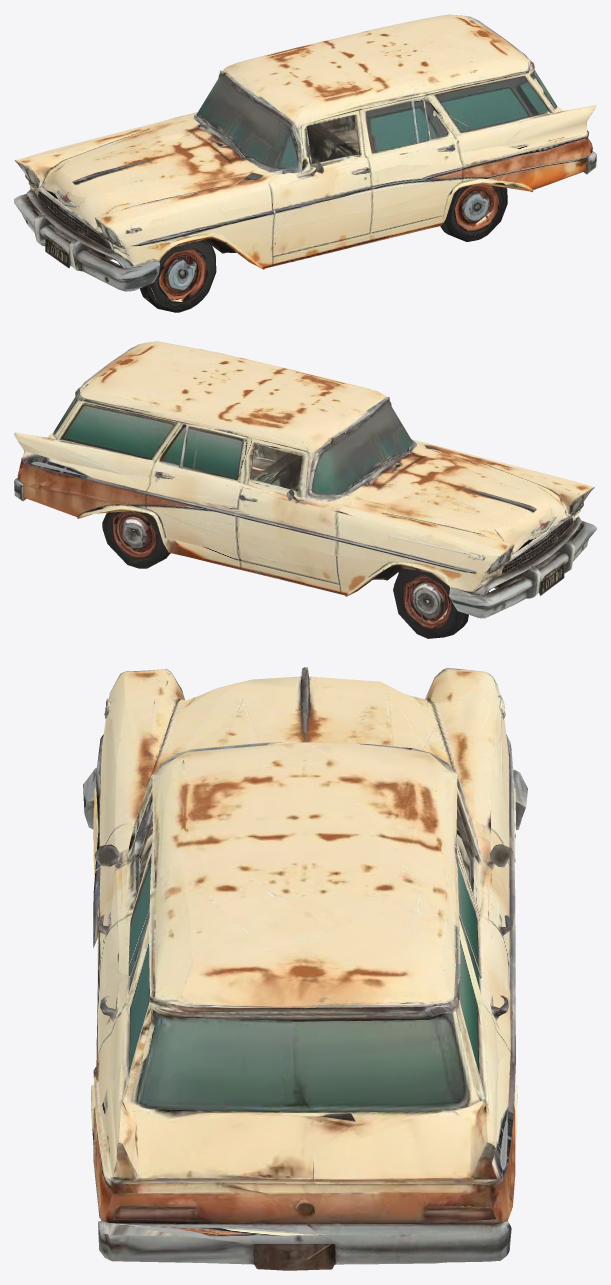
The model's file is suburb-car-lod.glb.
3 views of the same model, one above another, from view 1: azimuth 30°, elevation 25°; view 2: azimuth 150°, elevation 25°; view 3: azimuth 270°, elevation 25° (orthographic). The views are drawn at different scales.
Parts seen in each view (by area): view 1: suburb-car-Mesh_0.006; view 2: suburb-car-Mesh_0.006; view 3: suburb-car-Mesh_0.006.
Part boxes in pixels (x1,y1,x2,y2): suburb-car-Mesh_0.006: (14,14,596,312); suburb-car-Mesh_0.006: (14,341,596,638); suburb-car-Mesh_0.006: (83,667,527,1270).
Size of the model in its own units: 4.5 by 1.44 by 1.75.
Materials: 1 (1 with a texture image).
